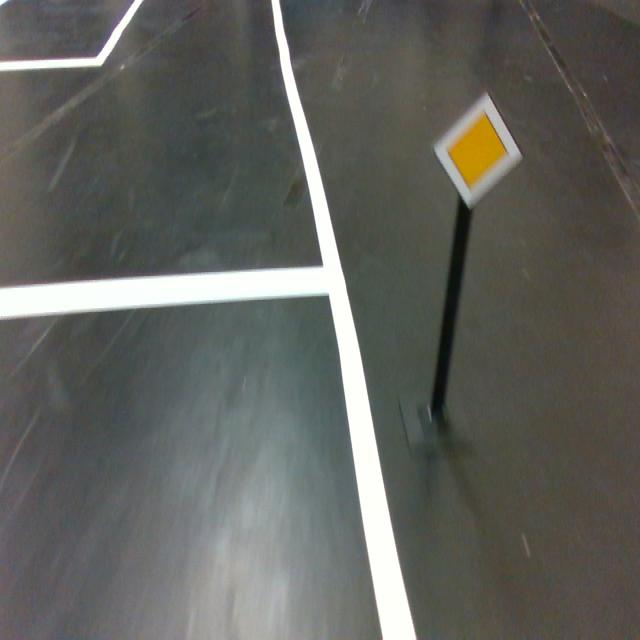priority-sign: (431, 90, 525, 212)
